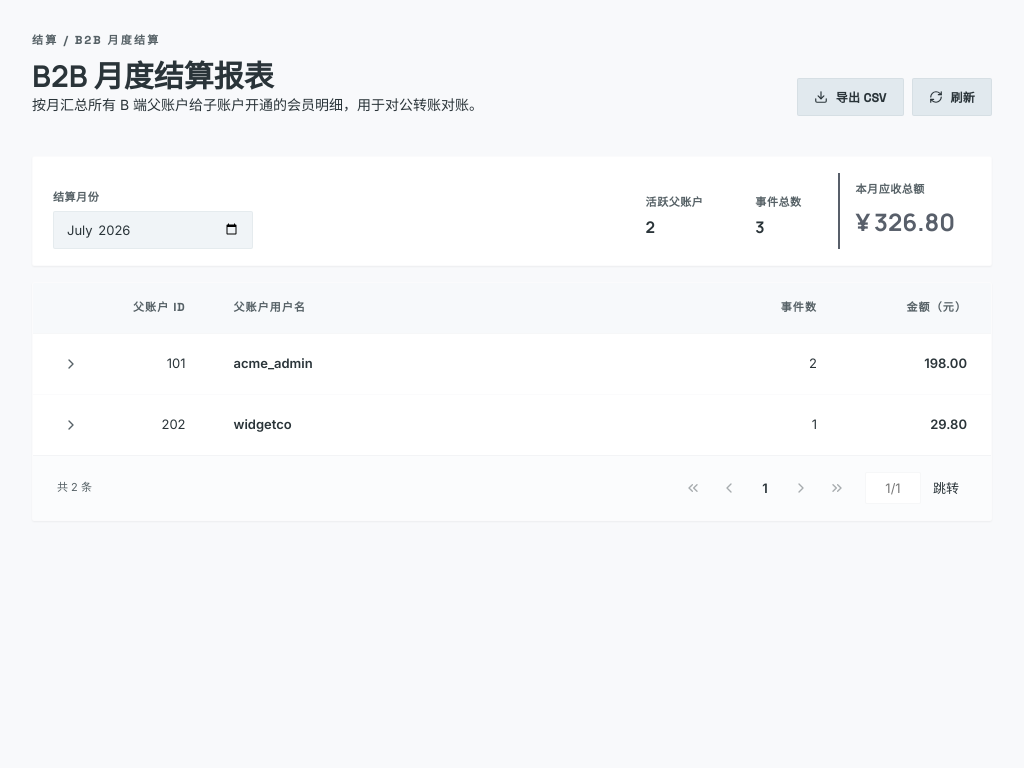
B2BBillingReportView — event-type mapping › maps trial to '开通体验' and all monthly grants (incl. 12-month annual) to '开通 Pro'
The width and height of the screenshot is (1024, 768).
Click the button with test id "row-expand-101".
click(71, 364)  # box [57,350,85,378]
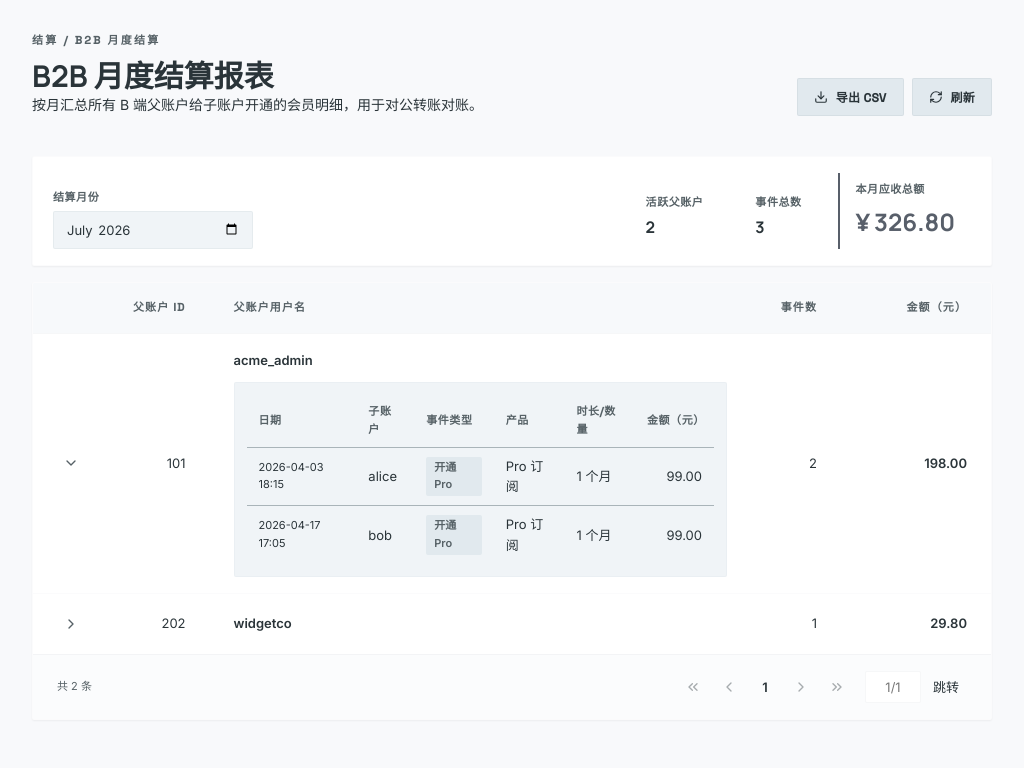
Expected: the text "开通 Pro" is shown, [426,457,482,496]
Click the button with test id "row-expand-202".
click(71, 624)  # box [57,610,85,638]
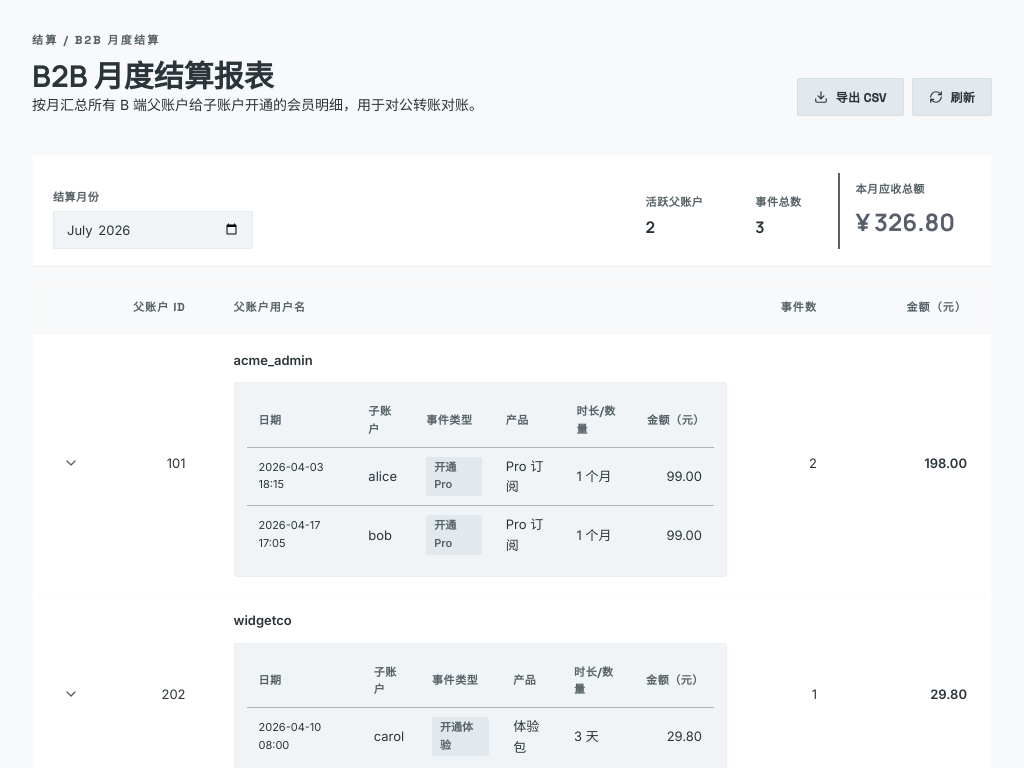
Replace the text in the field with test id "month-picker" with "2026-03" at (153, 230), box [53,211,253,249]
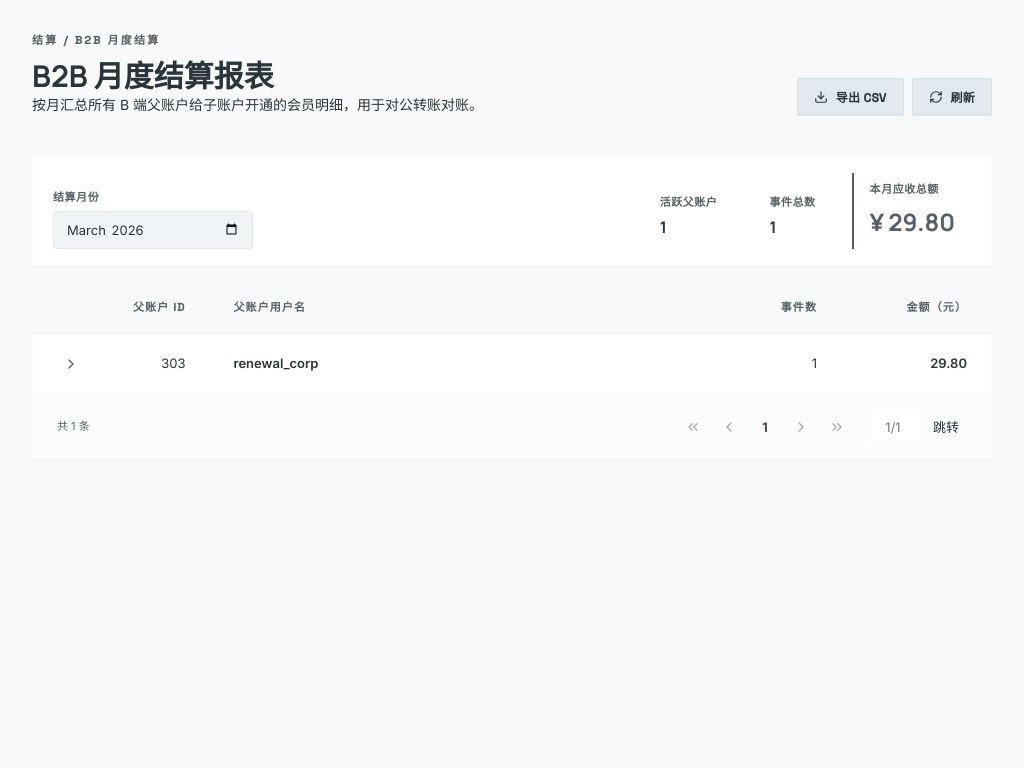
Click the button with test id "row-expand-303".
click(71, 364)  # box [57,350,85,378]
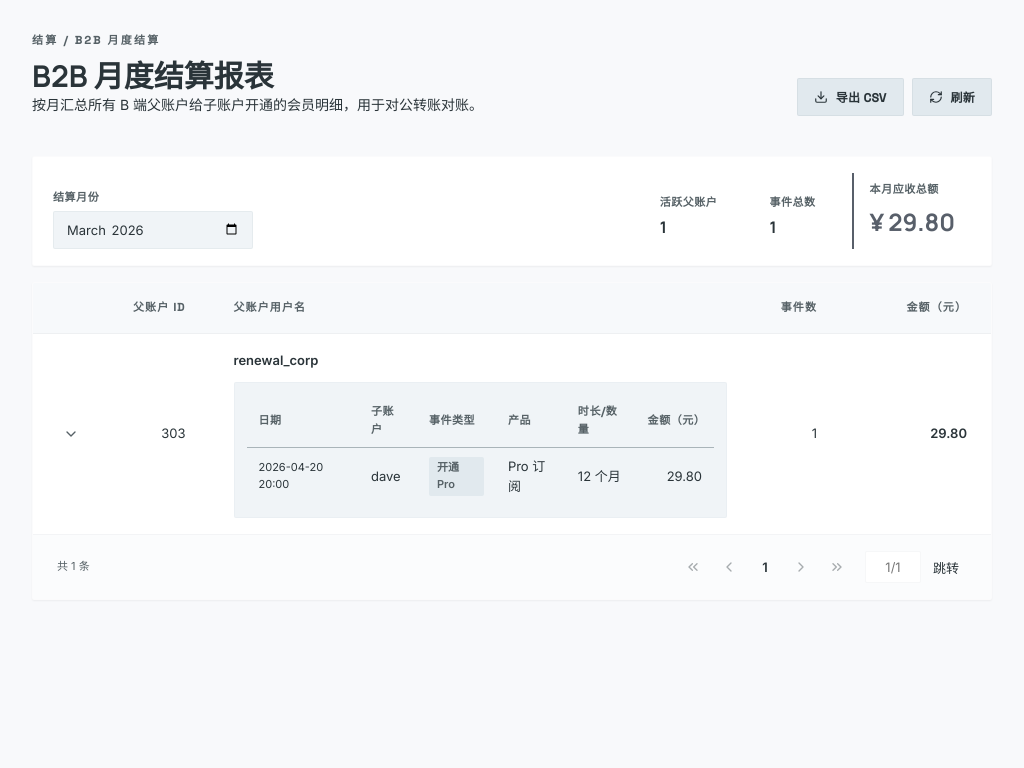
Expected: the text "开通 Pro" is shown, [429,457,484,496]
